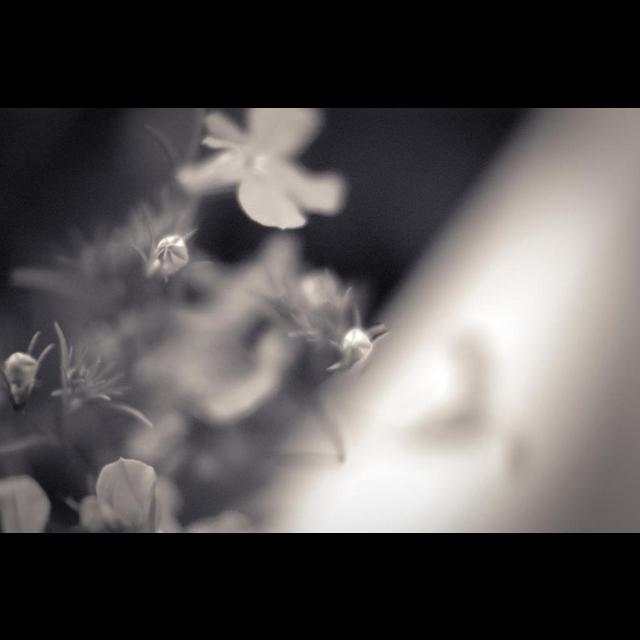Flower: (165, 107, 363, 231), (80, 453, 170, 532), (0, 474, 52, 532), (4, 349, 38, 408), (154, 232, 190, 280), (340, 324, 374, 368)
